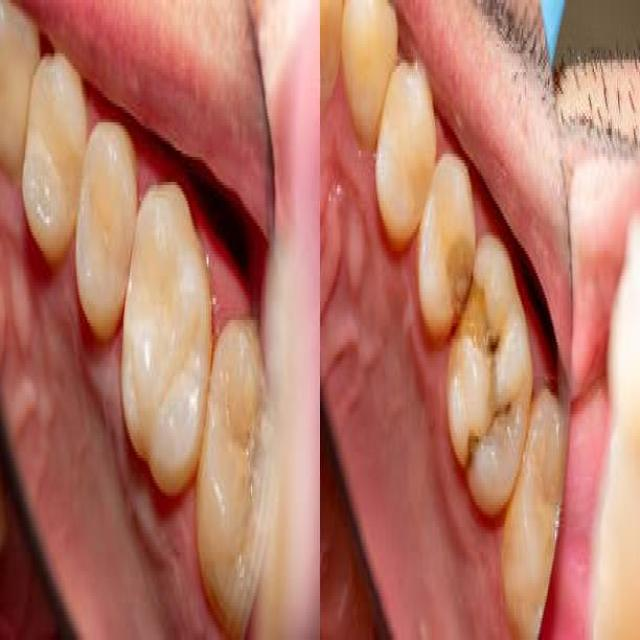caries: (446, 226, 503, 381), (459, 401, 484, 500)
